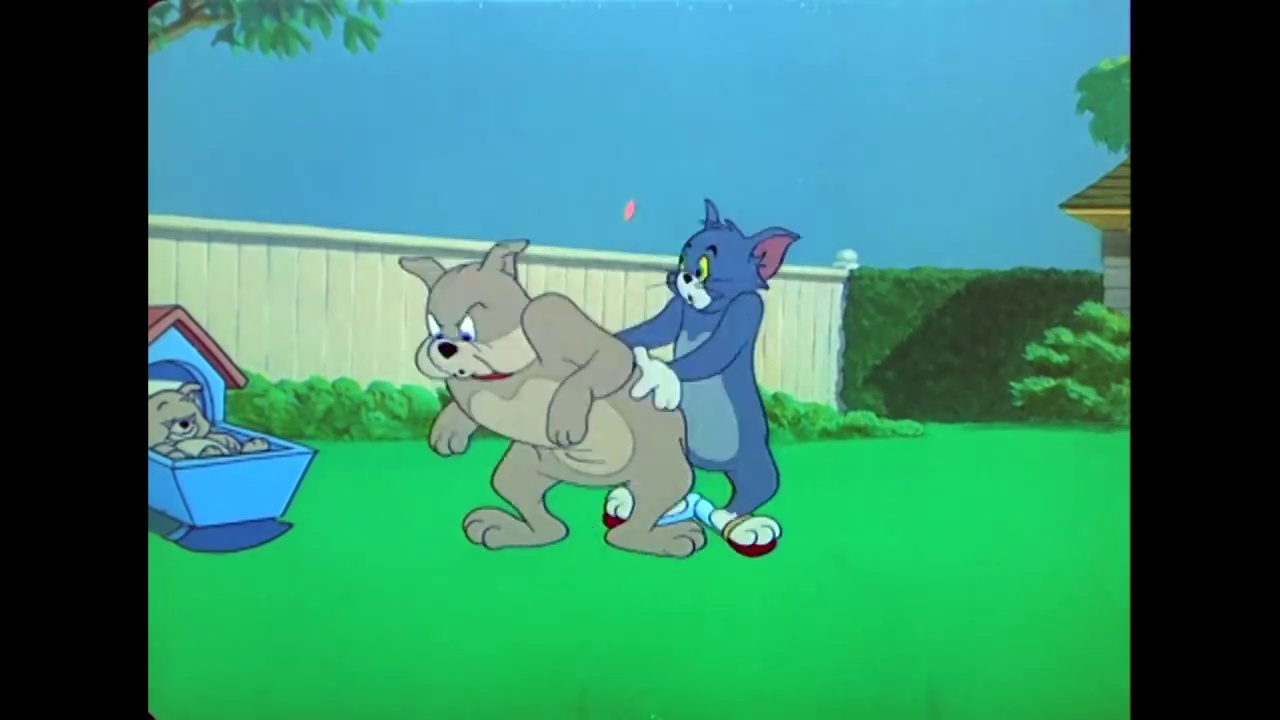spike: (391, 235, 560, 383)
tom: (661, 194, 806, 316)
